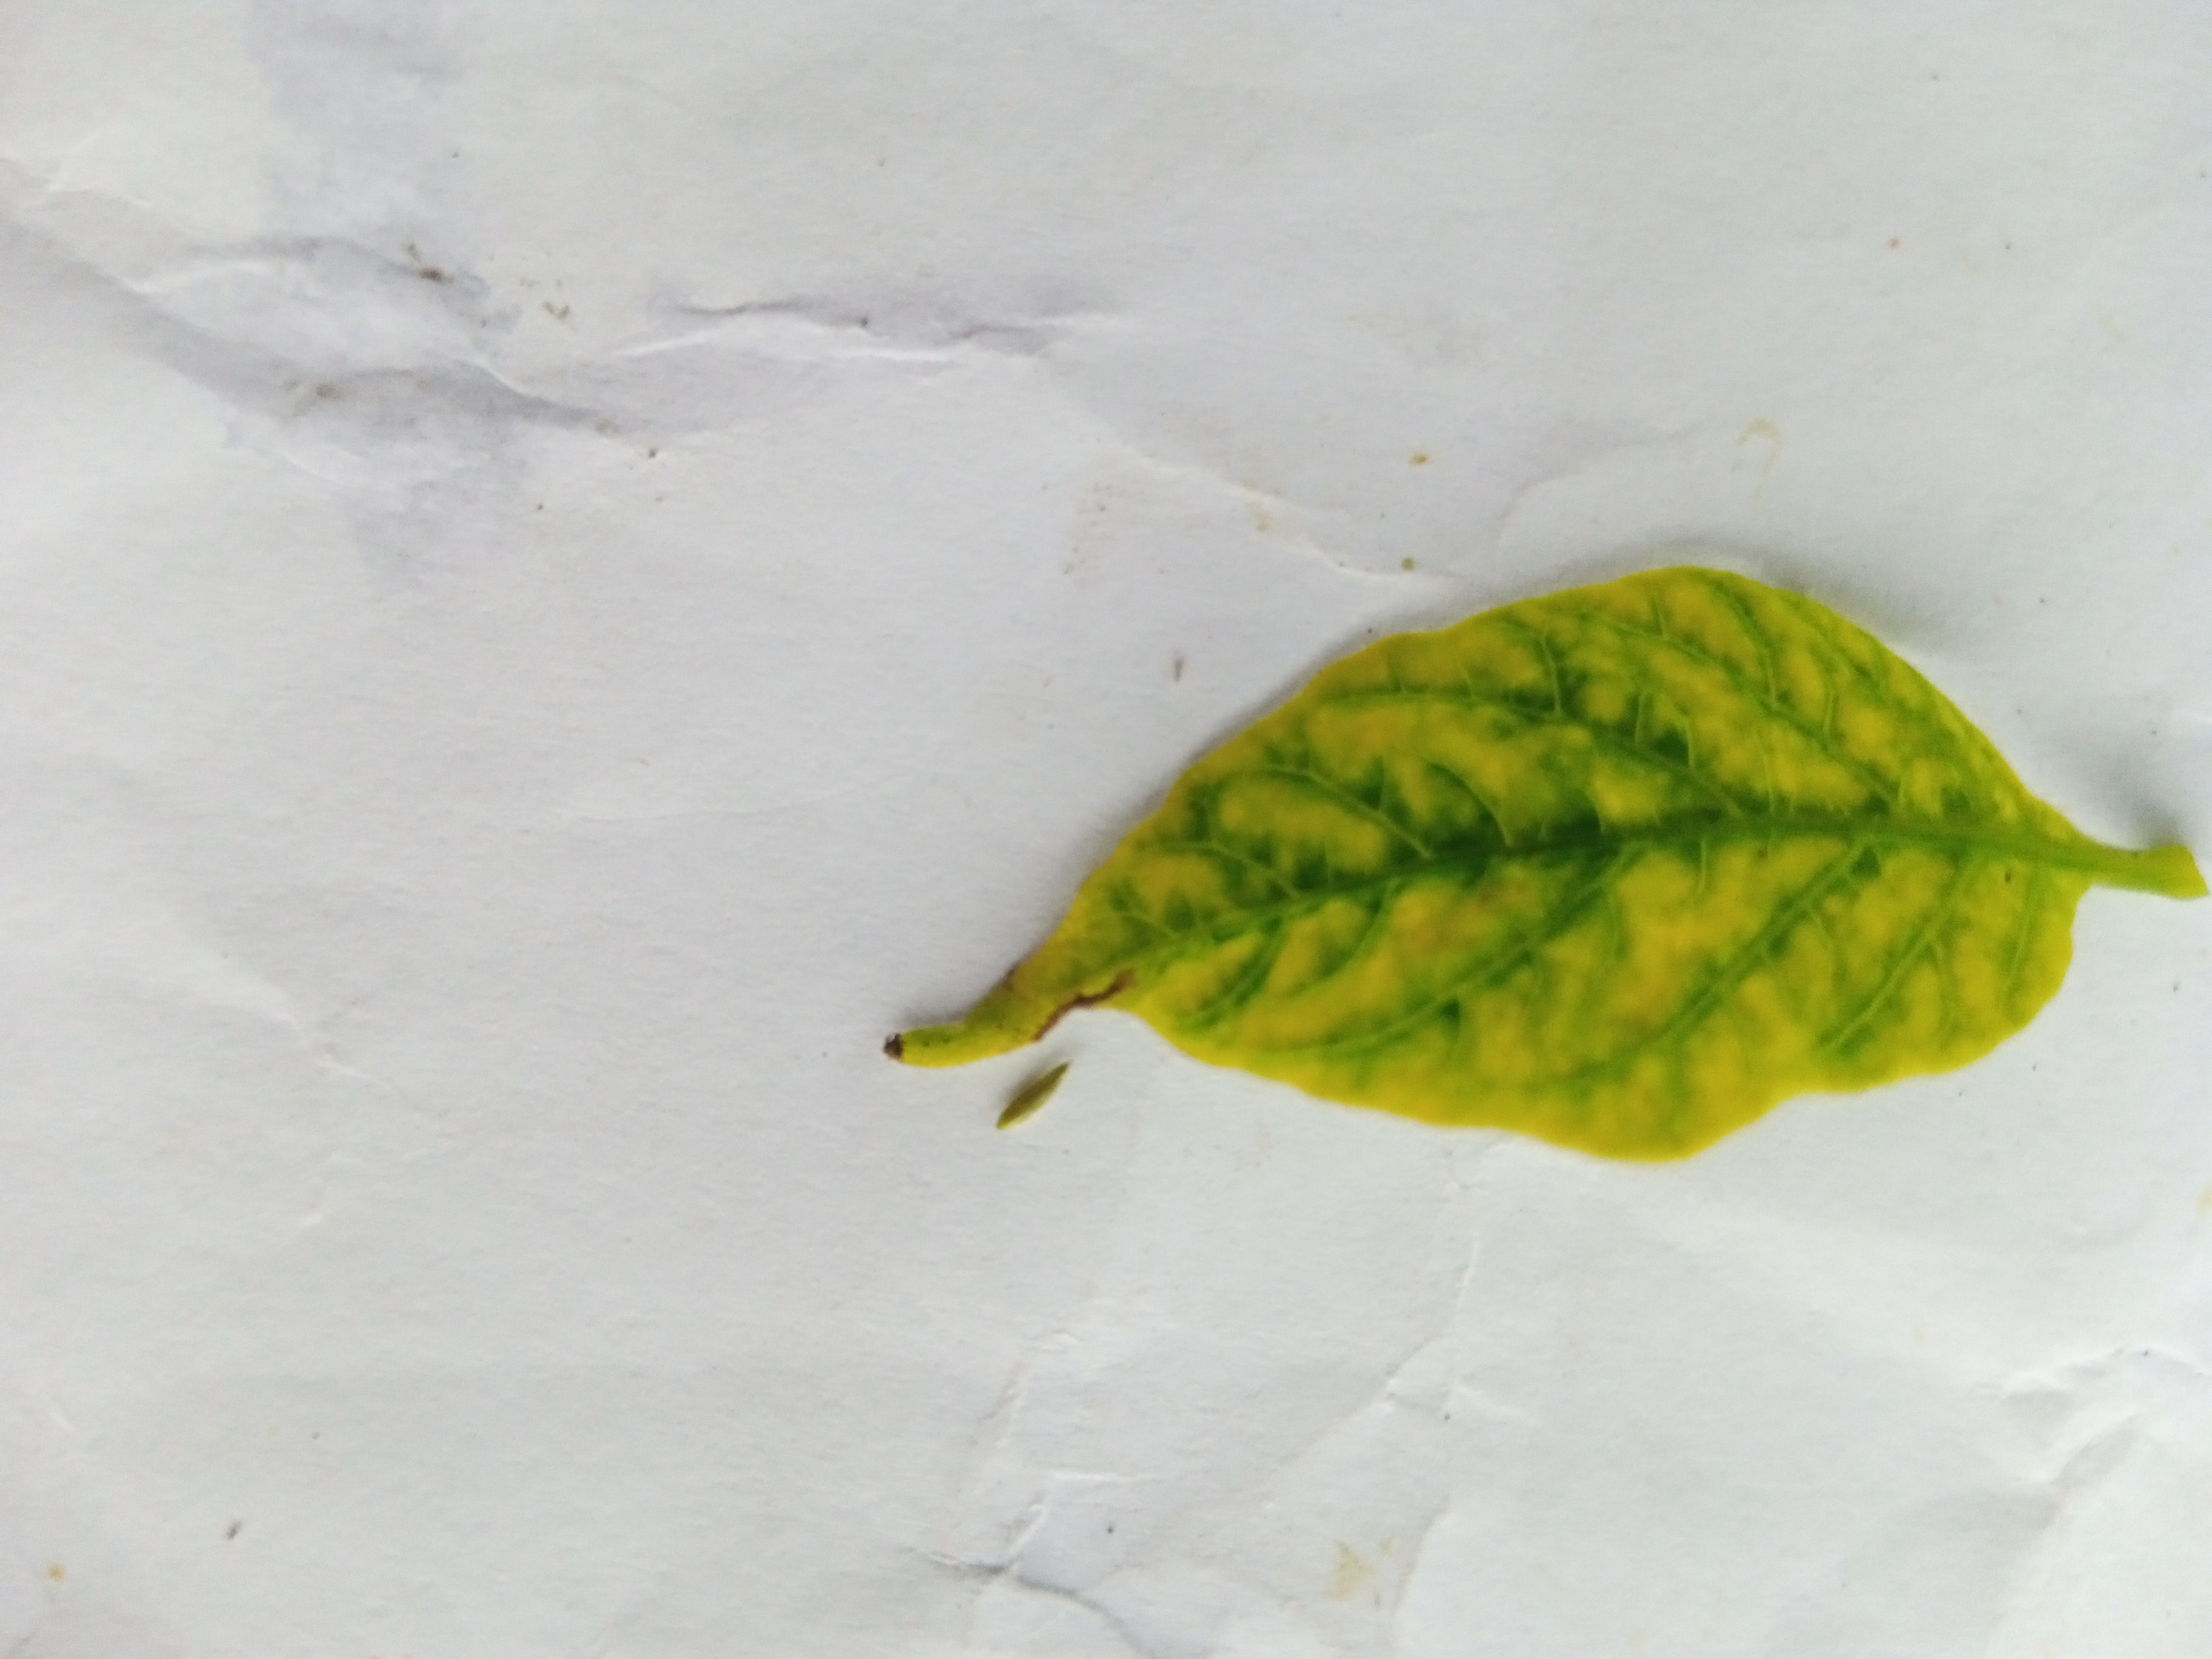Leaf: (855, 472, 2212, 1312)
